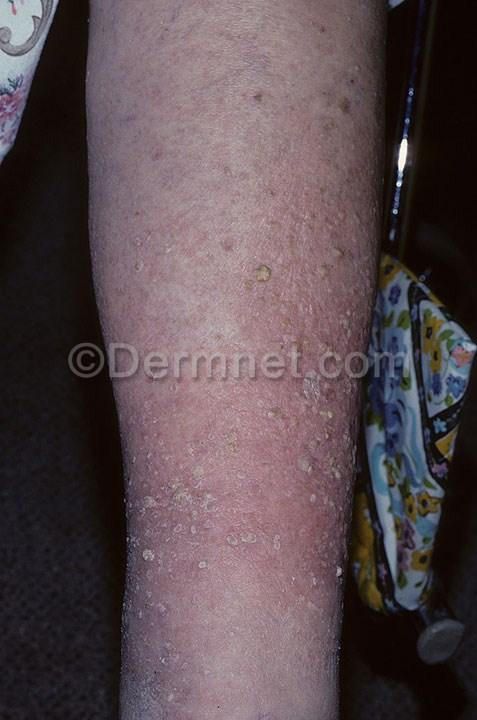Eczema: (94, 0, 360, 339), (127, 385, 339, 691)
